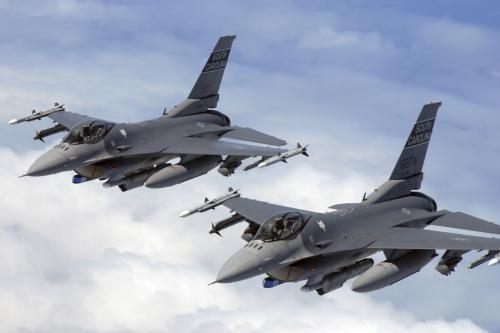airplane: (175, 100, 500, 295), (4, 37, 309, 194)
